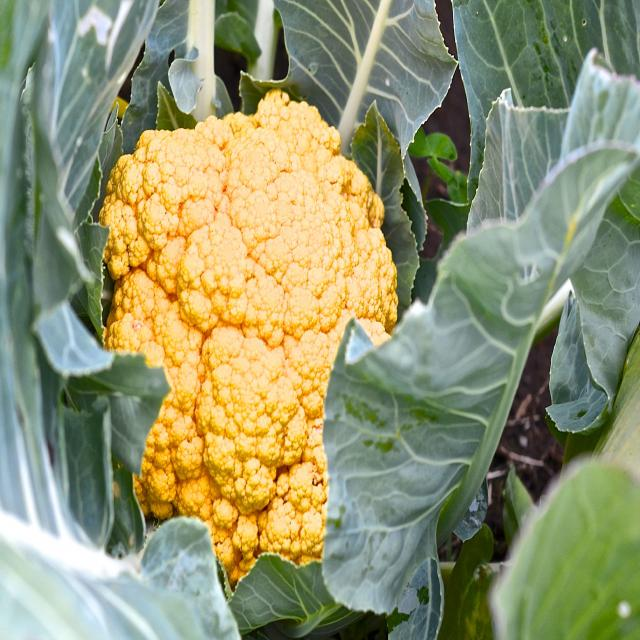cauliflower: (86, 140, 458, 589)
